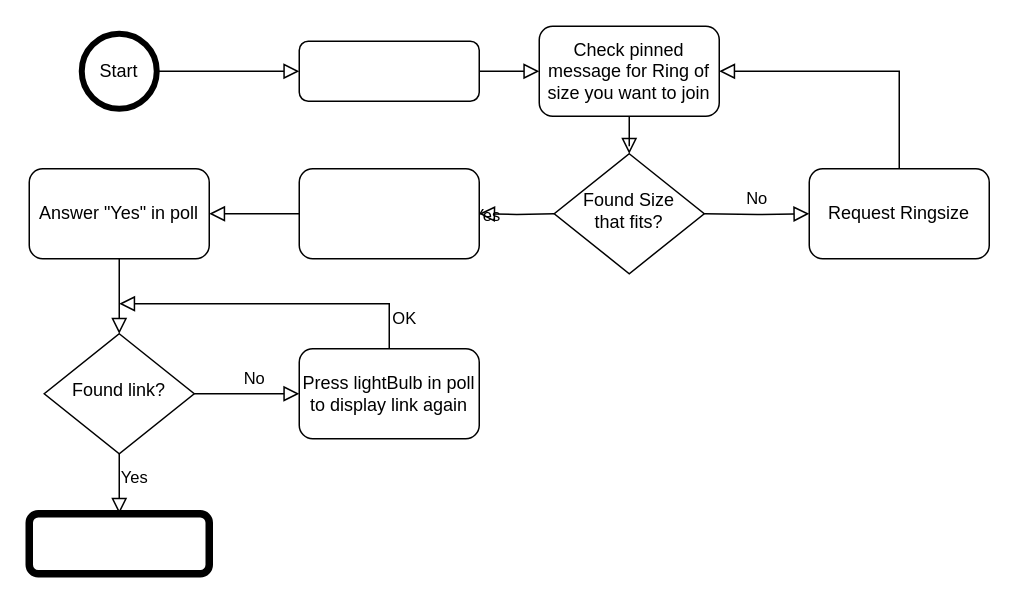
Image size: 1016x603. Some labels were removed from this diagram. Here are the shapes that lost their labels. From the top down, the box of each, then its label:
(298, 40, 479, 101): Join RoF
(298, 167, 479, 259): Follow link to poll
(25, 509, 212, 577): Follow Link to join Ring group.
